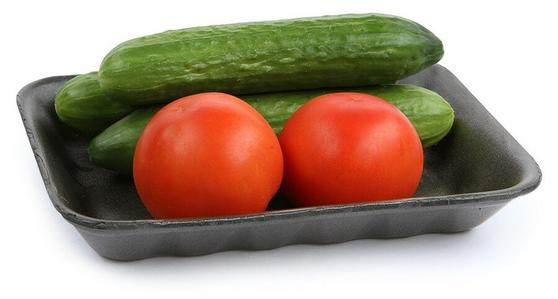cucumber: (105, 15, 441, 87)
tomato: (133, 88, 283, 221), (284, 90, 424, 203)
